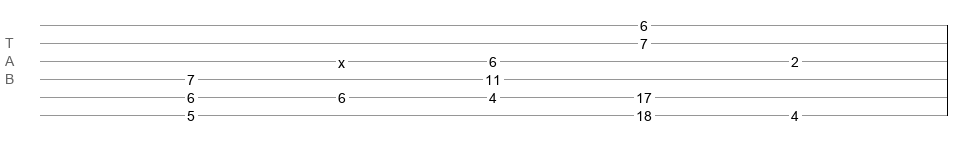11: (485, 72, 501, 82)
17: (636, 90, 652, 100)
18: (636, 108, 652, 118)
2: (791, 54, 799, 64)
4: (489, 90, 497, 100), (791, 108, 799, 118)
5: (187, 108, 195, 118)
6: (187, 90, 195, 100), (338, 90, 346, 100), (489, 54, 497, 64), (640, 18, 648, 28)
7: (187, 72, 195, 82), (640, 36, 648, 46)
x: (338, 55, 345, 63)
